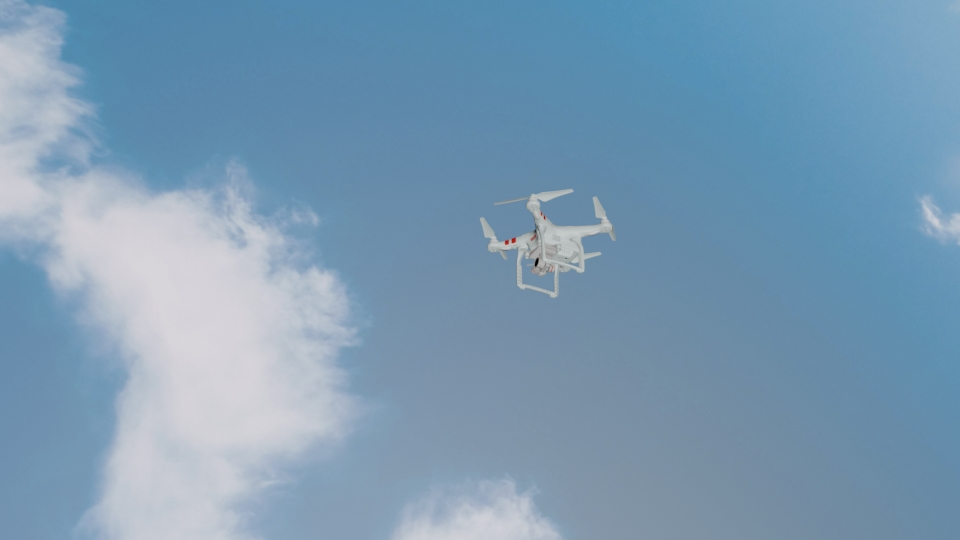drone: (480, 183, 619, 301)
